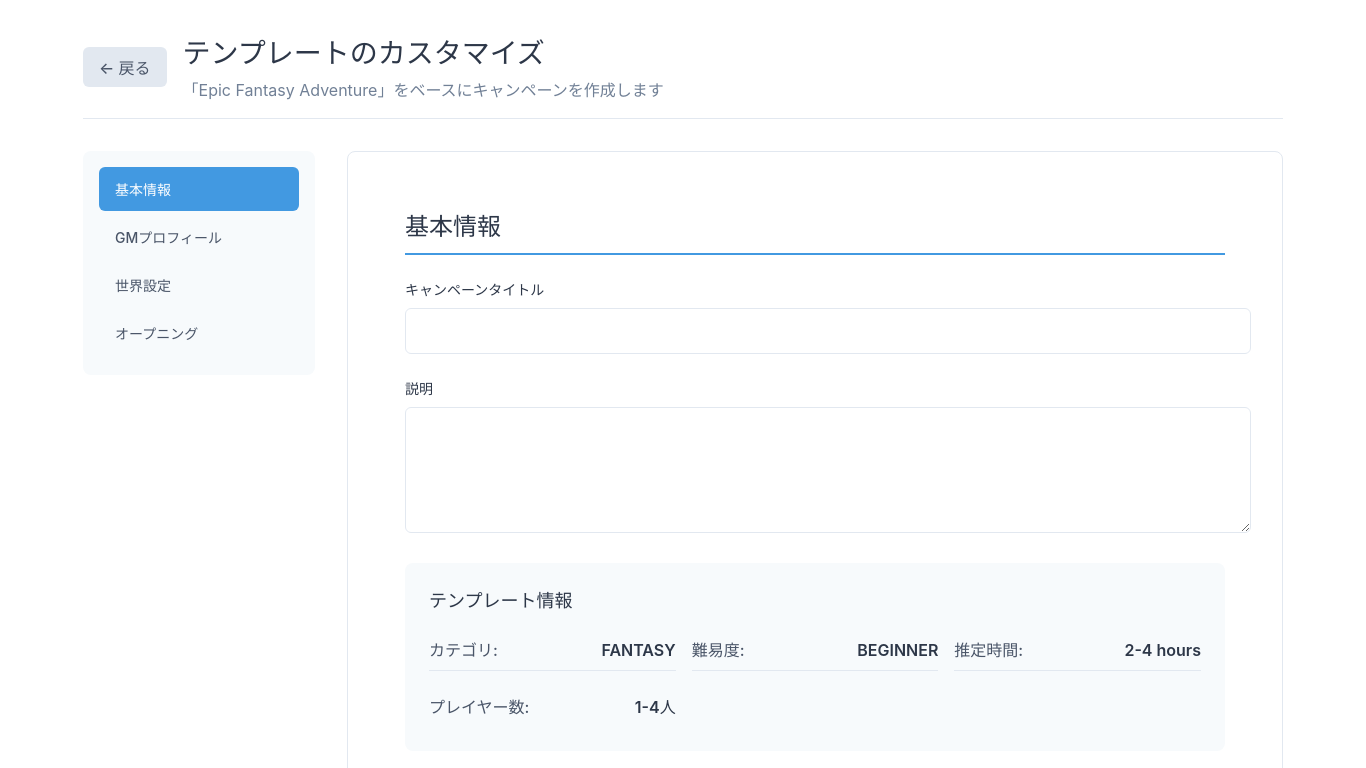
TemplateCustomizer Security Tests › Array Manipulation Security › should validate array input content
Note: Navigate to GM profile section
Click the button "GMプロフィール": coordinates (199, 237) [99,215,299,259]
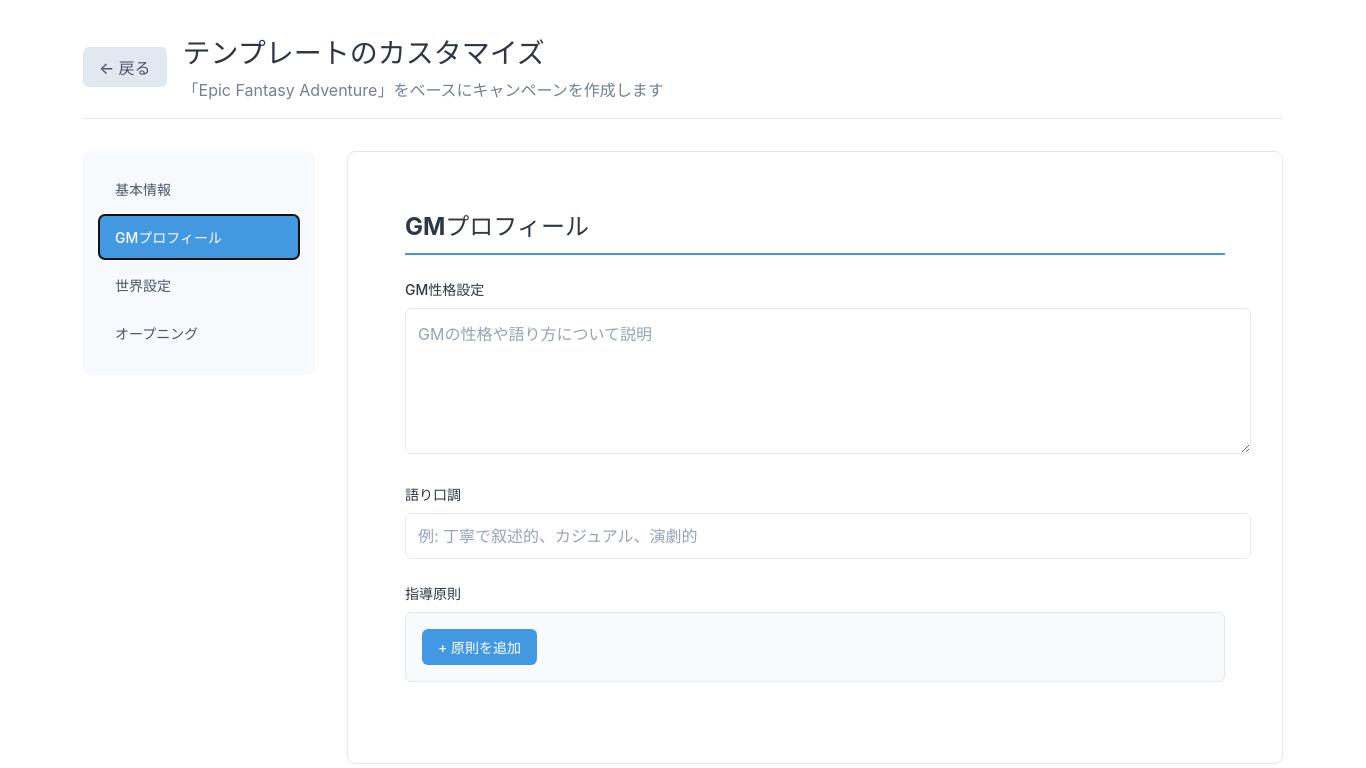
Click the button "+ 原則を追加": coordinates (480, 647) [422,629,537,665]
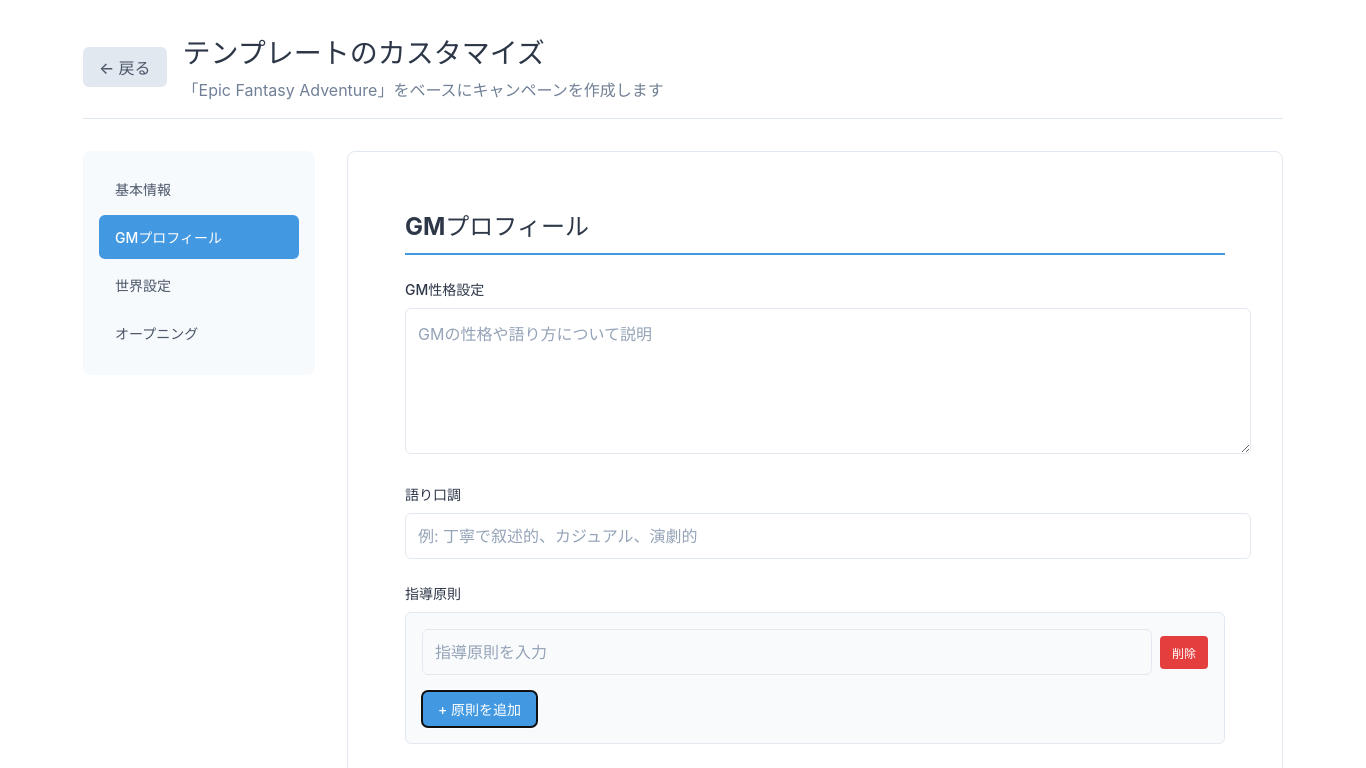
Expected: the field with placeholder "指導原則を入力" is shown
Note: Focus the input first, then paste the content
Click the field with placeholder "指導原則を入力": coordinates (787, 652) [422,629,1152,675]
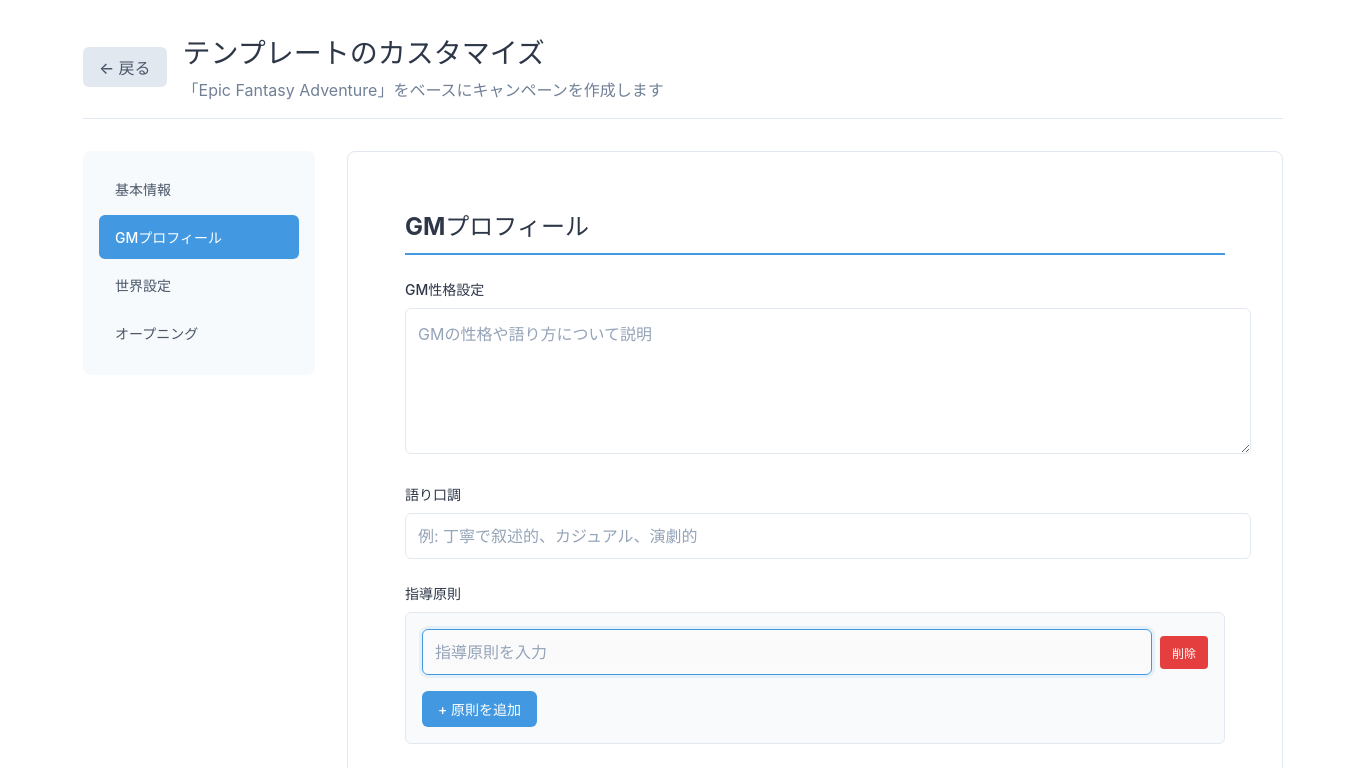
Type keys "<script>alert(\"array-xss\")</script>Evil Principle"
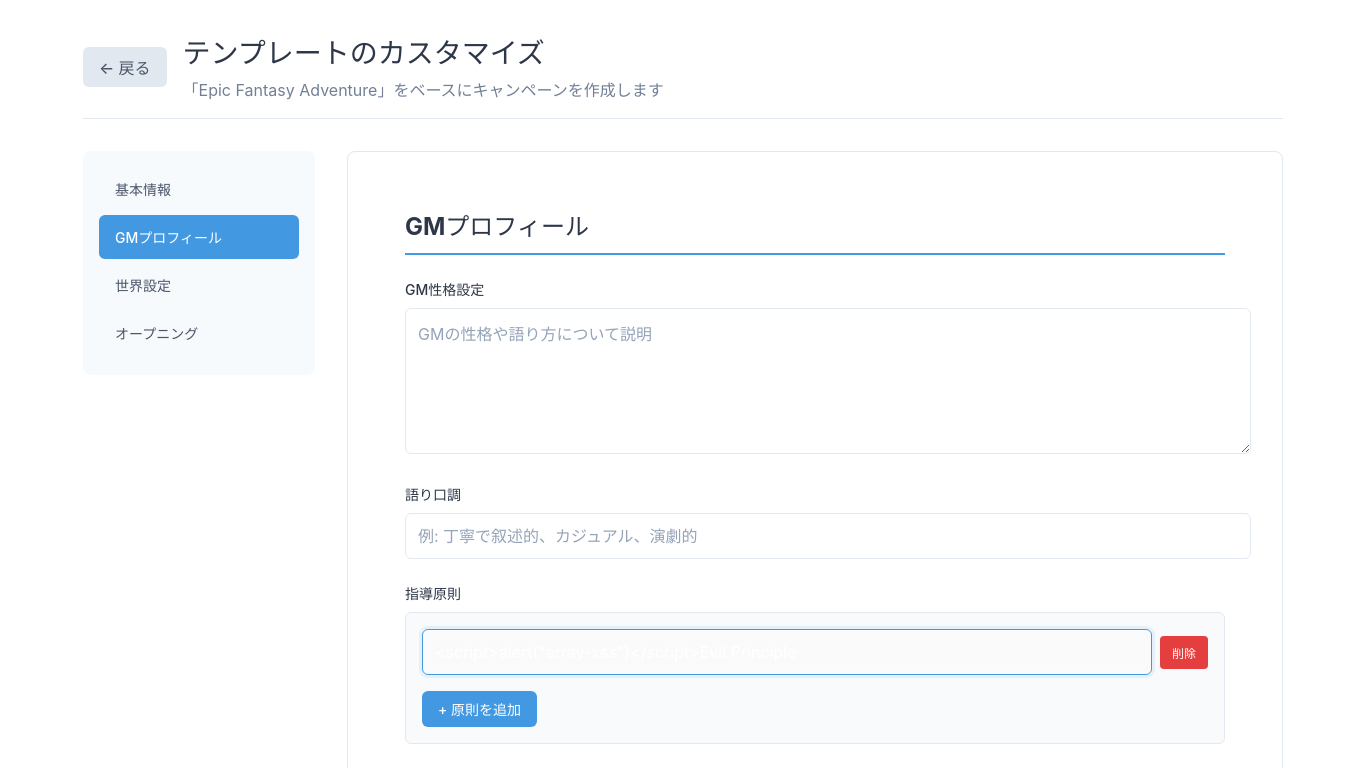
Expected: the field with placeholder "指導原則を入力" holds "<script>alert(\"array-xss\")</script>Evil Principle", [422,629,1152,675]
